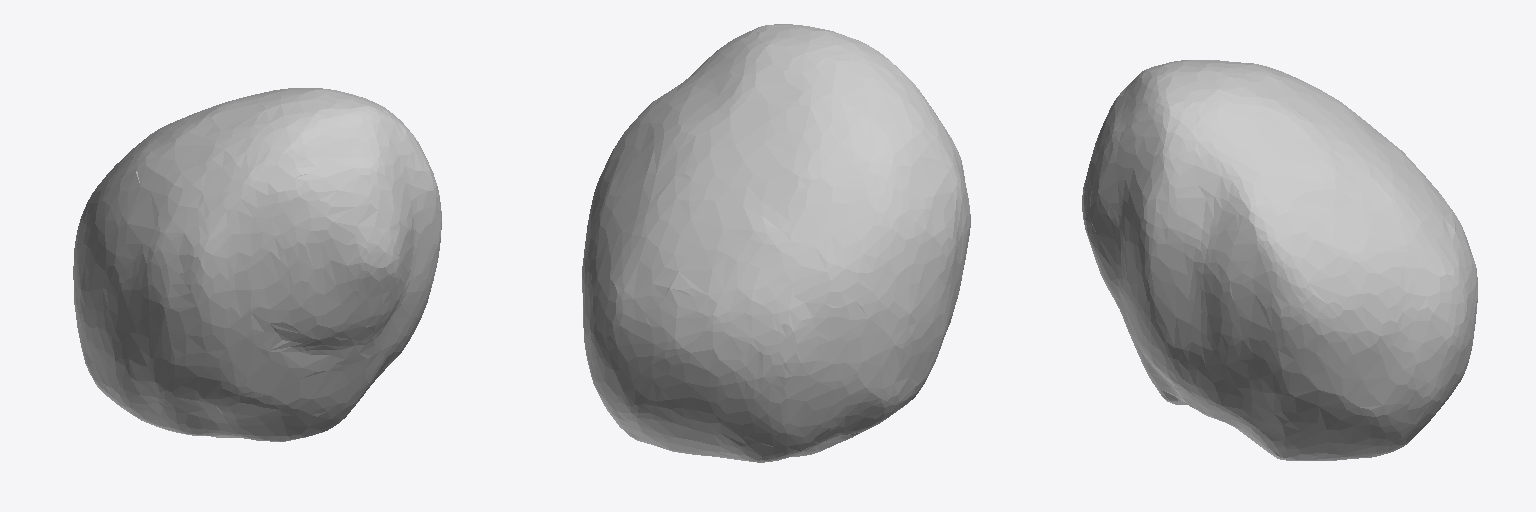
The picture shows the model from 3 angles: view 1: azimuth 30°, elevation 25°; view 2: azimuth 150°, elevation 25°; view 3: azimuth 270°, elevation 25°; orthographic projection.
Visible parts, largest first — view 1: Polygonal_Model_10_Triangles_0; view 2: Polygonal_Model_10_Triangles_0; view 3: Polygonal_Model_10_Triangles_0.
Boxes of the visible parts, x1,y1,x2,y2 form: Polygonal_Model_10_Triangles_0: [73, 88, 441, 441]; Polygonal_Model_10_Triangles_0: [582, 24, 970, 462]; Polygonal_Model_10_Triangles_0: [1082, 60, 1477, 460].
Bounding box in the file's own units: 5.26 × 5.67 × 5.54.